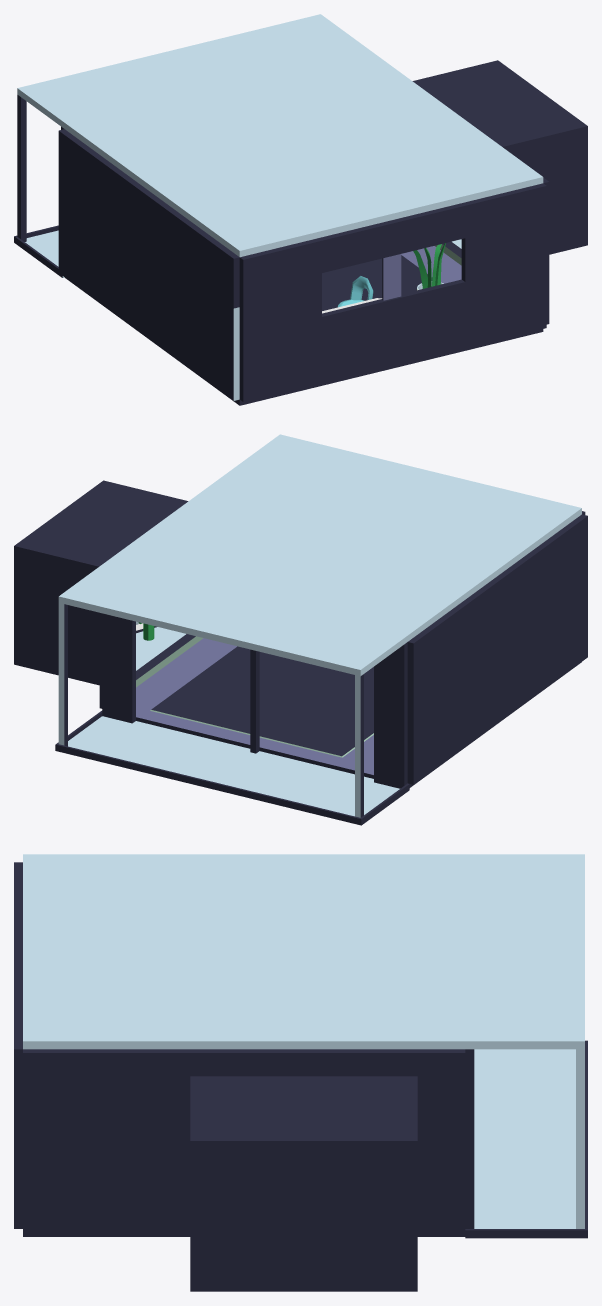
The model's file is FULL ROOM COLOR 1.1.glb.
3 views of the same model, one above another, from view 1: azimuth 30°, elevation 25°; view 2: azimuth 150°, elevation 25°; view 3: azimuth 270°, elevation 25° (orthographic). The views are drawn at different scales.
Parts seen in each view (by area): view 1: ROOF (2), WALL SCREEN, WALL SHELVING, WALL DOOR, FLOOR, PLANT1, CHAIR; view 2: ROOF (2), FLOOR, WALL SHELVING, WALL DOOR, WALL WINDOW; view 3: ROOF (2), WALL DOOR, FLOOR, WALL SCREEN, WALL WINDOW.
Part boxes in pixels (x1,y1,x2,y2): ROOF (2): (17,14,543,257); WALL SCREEN: (239,183,546,401); WALL SHELVING: (58,129,239,400); WALL DOOR: (412,60,587,324); FLOOR: (14,225,543,405); PLANT1: (413,243,445,290); CHAIR: (337,276,373,307); ROOF (2): (58,434,581,817); FLOOR: (55,638,581,825); WALL SHELVING: (407,514,587,784); WALL DOOR: (14,480,203,708); WALL WINDOW: (102,613,407,788); ROOF (2): (23,854,584,1228); WALL DOOR: (23,1049,465,1291); FLOOR: (23,1040,587,1238); WALL SCREEN: (14,862,22,1228); WALL WINDOW: (465,1049,474,1228).
Bounding box in the file's own units: 13.86 × 4.88 × 12.97.
